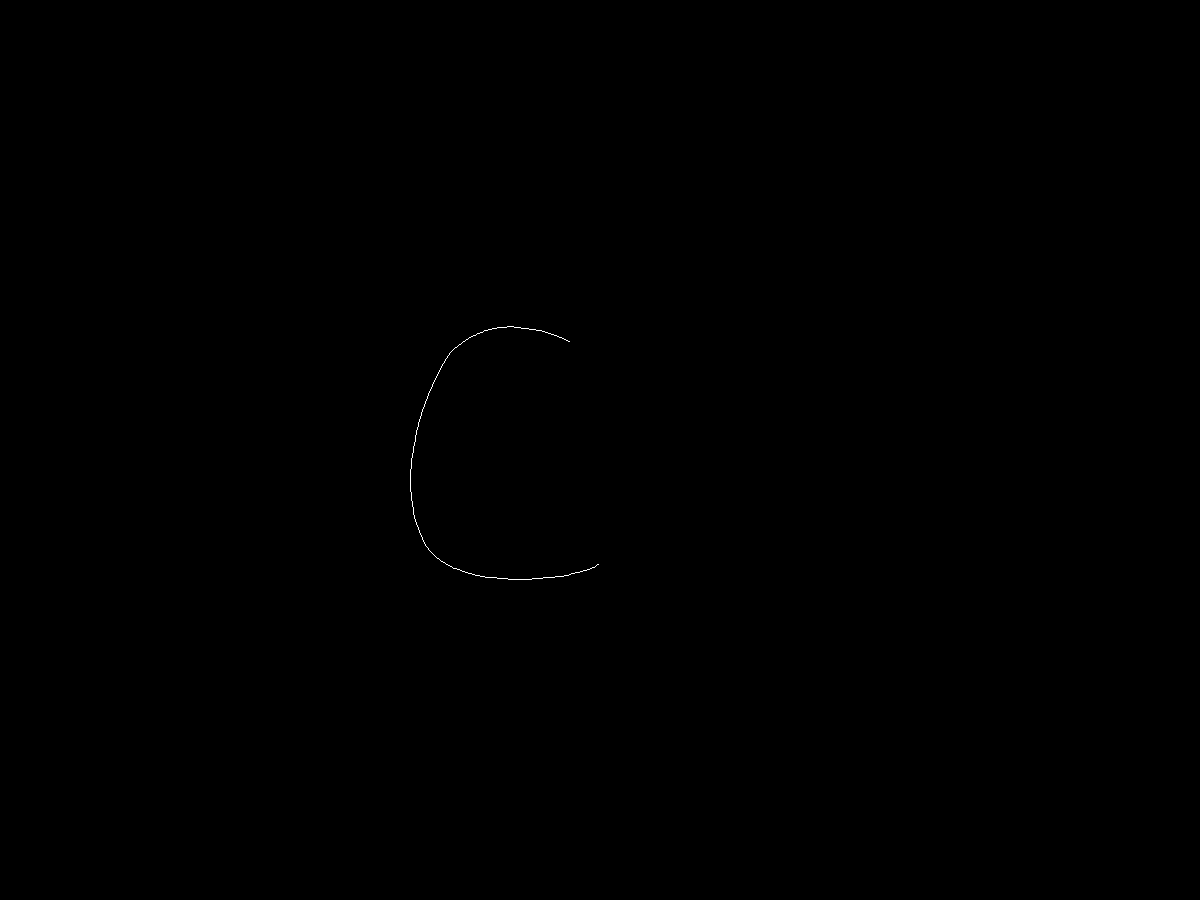dian1: (561, 333, 591, 348)
dian2: (585, 556, 618, 584)
